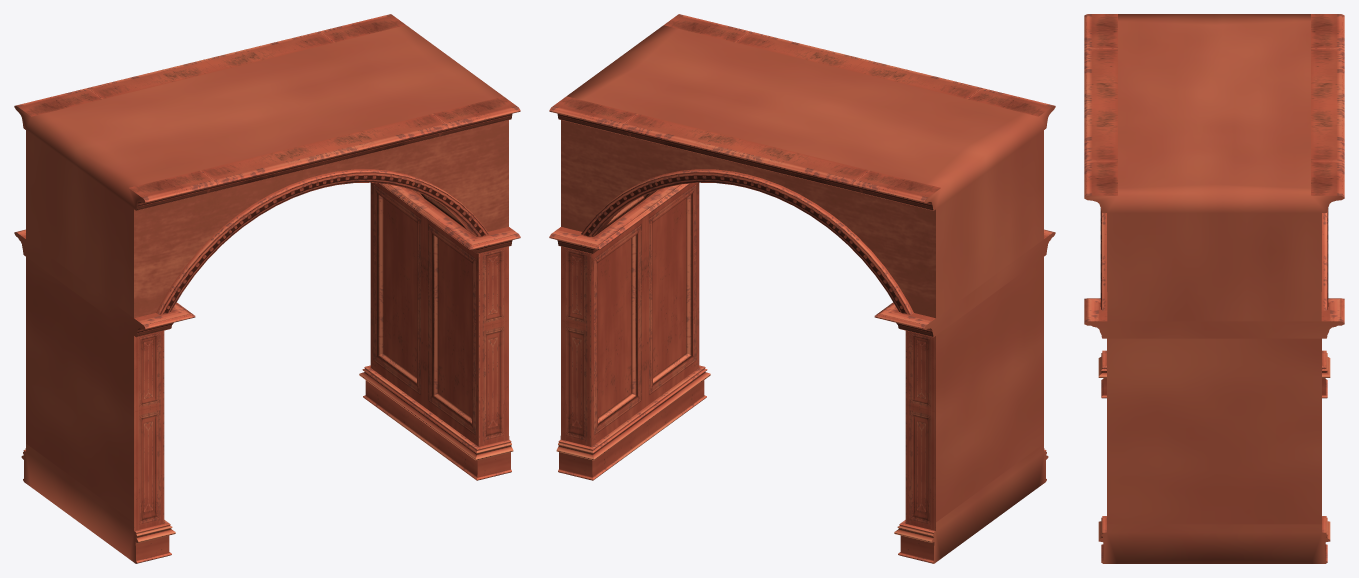
The model's file is MSH_Arch_01.FBX.
The picture shows the model from 3 angles, left to right: view 1: azimuth 30°, elevation 25°; view 2: azimuth 150°, elevation 25°; view 3: azimuth 270°, elevation 25°; orthographic projection.
Visible parts, largest first — view 1: MSH_Arch_01; view 2: MSH_Arch_01; view 3: MSH_Arch_01.
Part boxes in pixels (left/top/right/bottom): MSH_Arch_01: left=14, top=14, right=520, bottom=563; MSH_Arch_01: left=549, top=14, right=1055, bottom=563; MSH_Arch_01: left=1084, top=14, right=1344, bottom=563.
Size of what is drawn, in the model's own units: 360 by 218 by 340.
